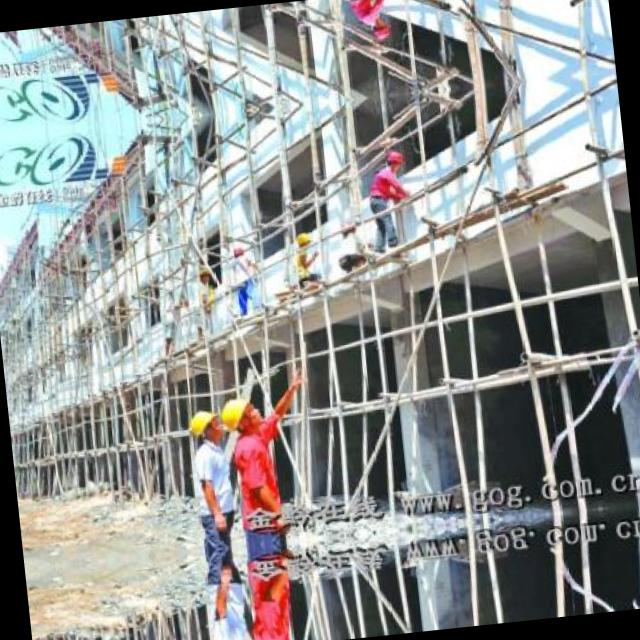helmet: (222, 393, 255, 438), (186, 408, 222, 448), (292, 229, 313, 254), (368, 19, 389, 42), (382, 148, 403, 170)
